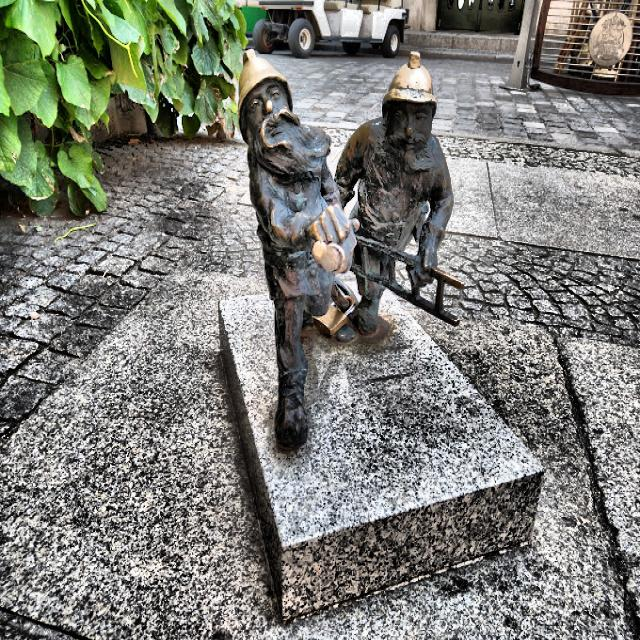Pozarki: (238, 49, 464, 448)
